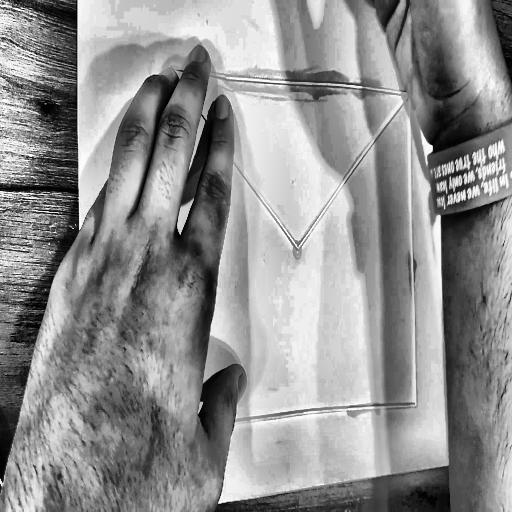bottom_right: (491, 449, 499, 463)
envelop: (160, 57, 423, 443)
